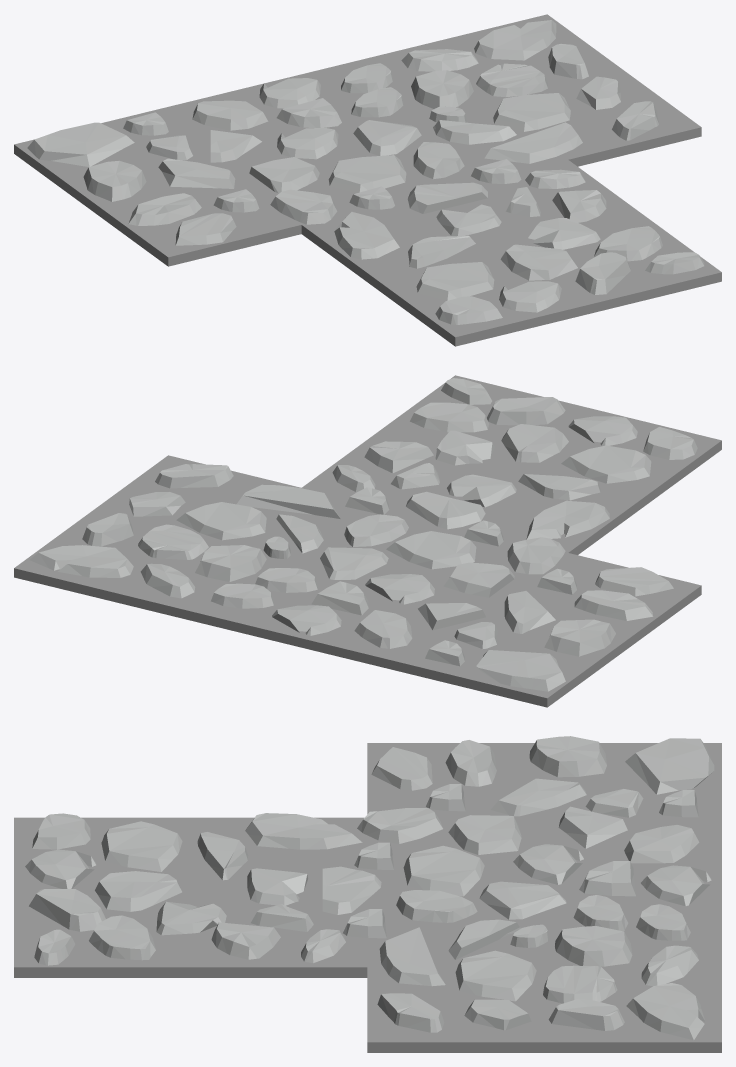
File: Road_Stone_04.glb
The picture shows the model from 3 angles, top to bottom: view 1: azimuth 30°, elevation 25°; view 2: azimuth 150°, elevation 25°; view 3: azimuth 270°, elevation 25°; orthographic projection. The views are drawn at different scales.
Visible parts, largest first — view 1: Road_Stone_4; view 2: Road_Stone_4; view 3: Road_Stone_4.
Part boxes in pixels (box(x1,y1,x2,y2)): Road_Stone_4: box(14, 14, 721, 346); Road_Stone_4: box(14, 375, 721, 707); Road_Stone_4: box(14, 736, 721, 1052).
Bounding box in the file's own units: 6 × 0.2316 × 6.
1 material, 1 textured.
